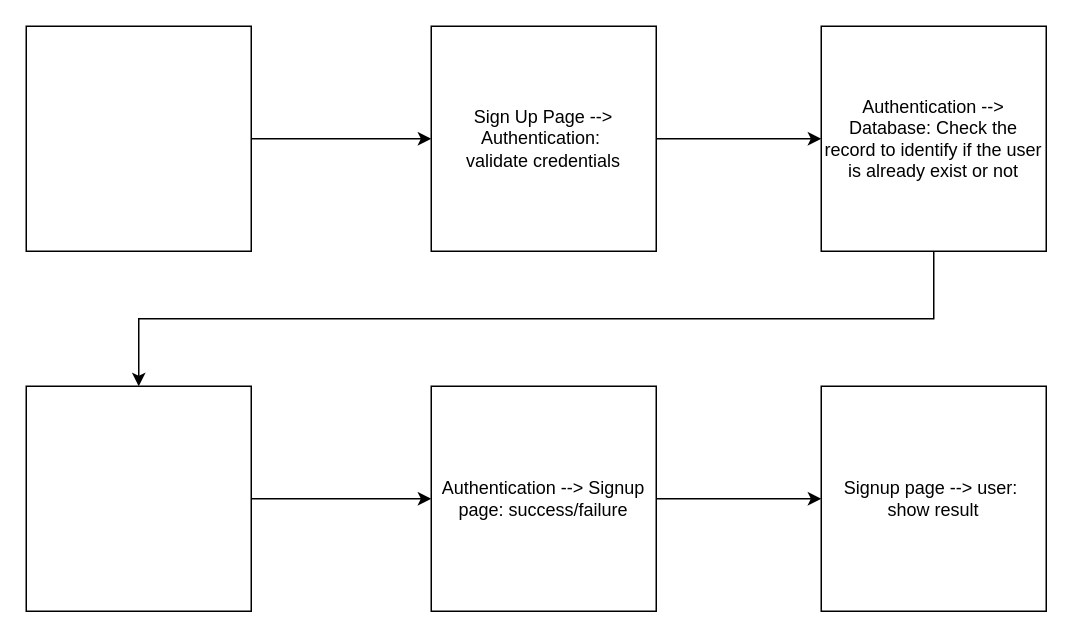
This 1073x638 diagram has some shape labels left out. The shapes that lost their labels are listed below. From the top down, each one's box as (x1, y1, x2, y2) in pixels, then its label:
(25, 25, 251, 251): User --> Signup Page: Enter User Details
(25, 385, 251, 611): Database --> Add the details to database
